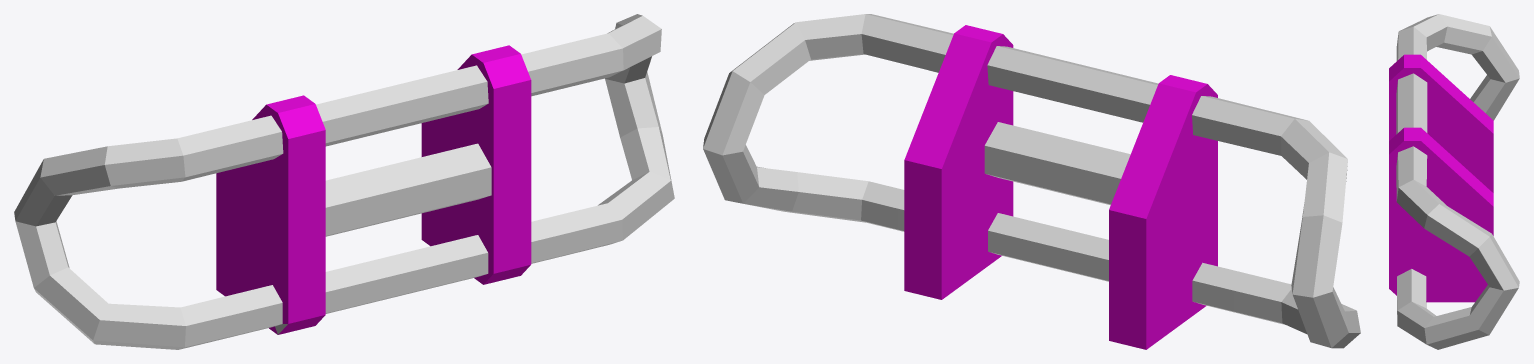
The model's file is CarBumper.fbx.
3 views of the same model, side by side, from view 1: azimuth 30°, elevation 25°; view 2: azimuth 150°, elevation 25°; view 3: azimuth 270°, elevation 25° (orthographic). The views are drawn at different scales.
Visible parts, largest first — view 1: CarBumper; view 2: CarBumper; view 3: CarBumper.
Part boxes in pixels (left/top/right/bottom): CarBumper: left=14, top=14, right=674, bottom=349; CarBumper: left=703, top=14, right=1360, bottom=349; CarBumper: left=1389, top=14, right=1519, bottom=349.
Size of the model in its own units: 235 by 79 by 57.95.
